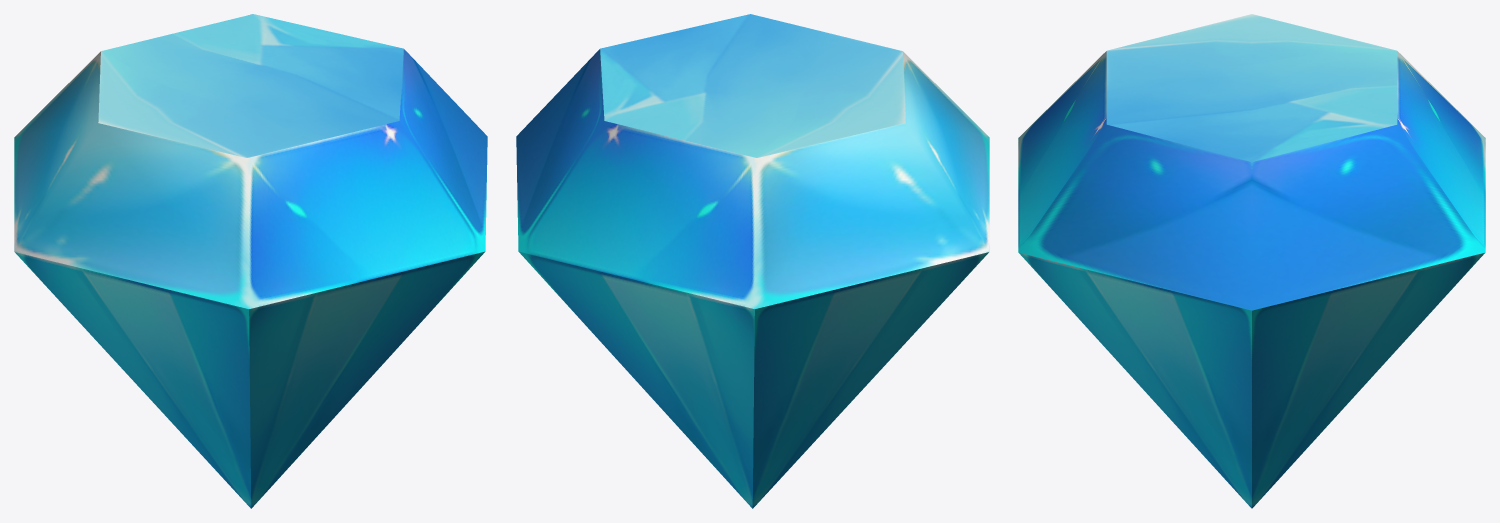
3 renders of one model, left to right at view 1: azimuth 30°, elevation 25°; view 2: azimuth 150°, elevation 25°; view 3: azimuth 270°, elevation 25°, orthographic.
Visible parts, largest first — view 1: 对象013; view 2: 对象013; view 3: 对象013.
Boxes of the visible parts, x1,y1,x2,y2 form: 对象013: (14, 14, 487, 508); 对象013: (516, 14, 989, 508); 对象013: (1018, 14, 1485, 508).
Size of the model in its own units: 72.41 by 61.86 by 62.22.
